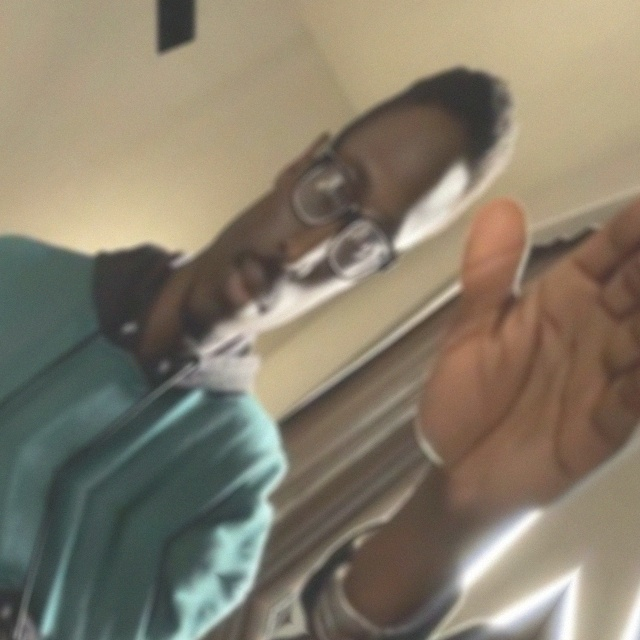Paper: (268, 0, 640, 602)
